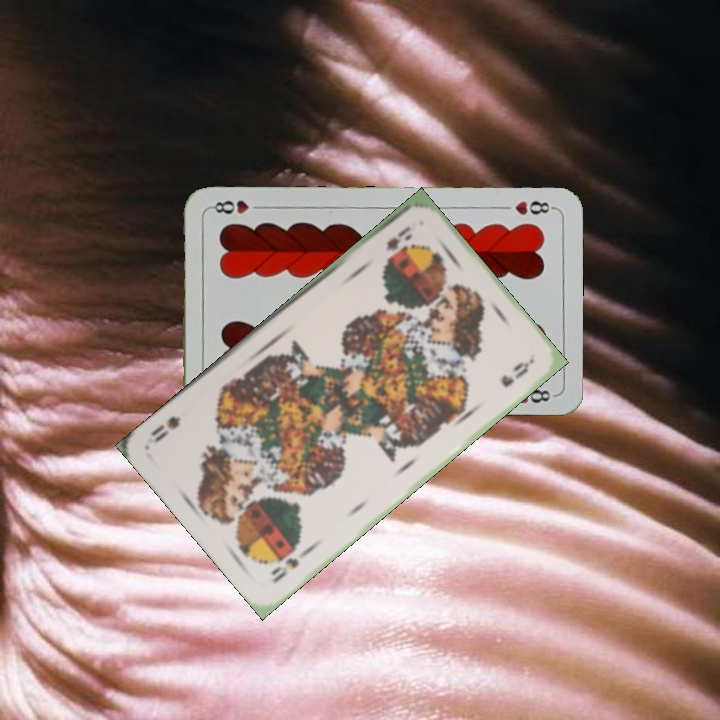H8: (511, 197, 557, 218)
SO: (266, 543, 314, 586), (381, 221, 415, 254)
